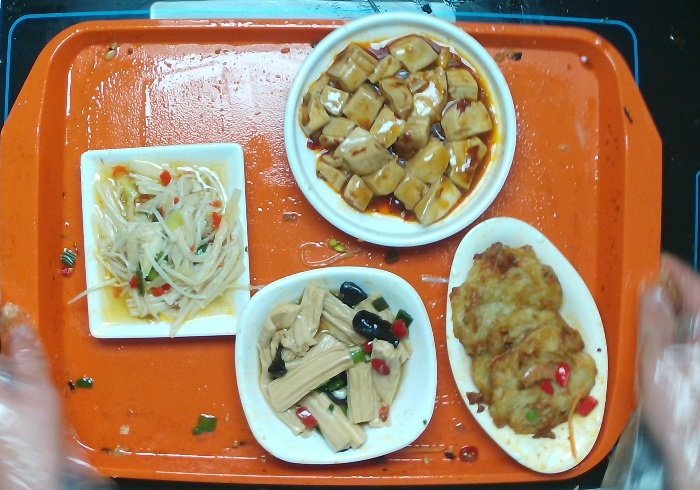HZYJPL-Si_Fang_Die: (76, 136, 256, 346)
HZYJPL-Si_Fang_Yuan_Die: (233, 266, 435, 474)
HZYJPL-Xiao_Yu_Die: (440, 215, 614, 486)
HZYJPL-Xiao_Yuan_Die: (283, 12, 517, 246)
